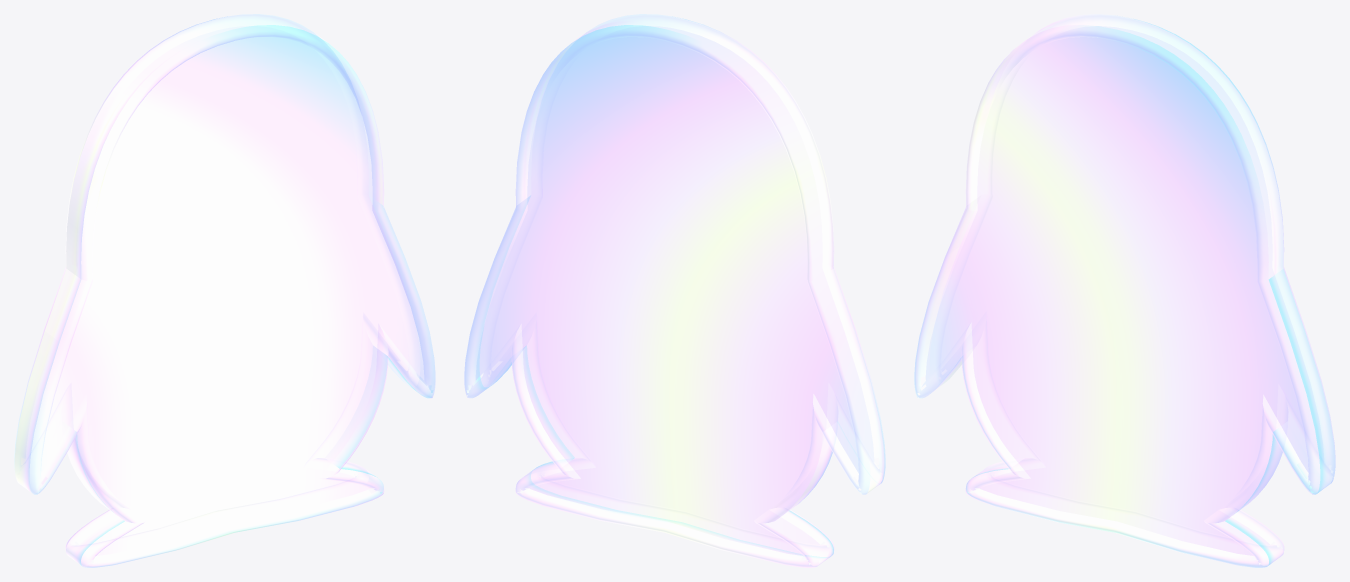
3 renders of one model, left to right at view 1: azimuth 30°, elevation 25°; view 2: azimuth 150°, elevation 25°; view 3: azimuth 330°, elevation 25°, orthographic.
Visible parts, largest first — view 1: QQ001; view 2: QQ001; view 3: QQ001.
Part boxes in pixels (bbox=[...]): QQ001: bbox=[14, 14, 435, 567]; QQ001: bbox=[464, 14, 885, 567]; QQ001: bbox=[914, 14, 1335, 567].
Size of the model in its own units: 21.9 by 26.16 by 2.
1 material, 1 textured.
